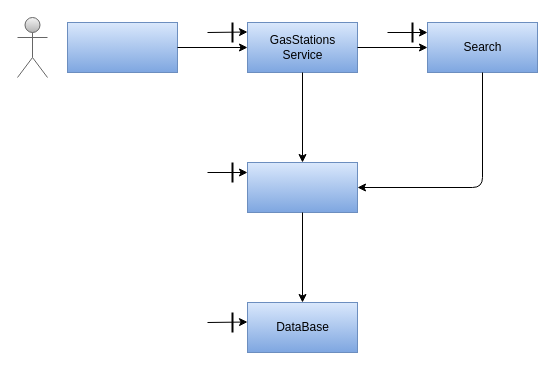
Some shapes in this 555 by 370 pixel diagram are drawn without their labels. Each missing label, with the centre of its shape:
"GUI" goes at pixel 122 47.
"Resource Manager" goes at pixel 302 187.
